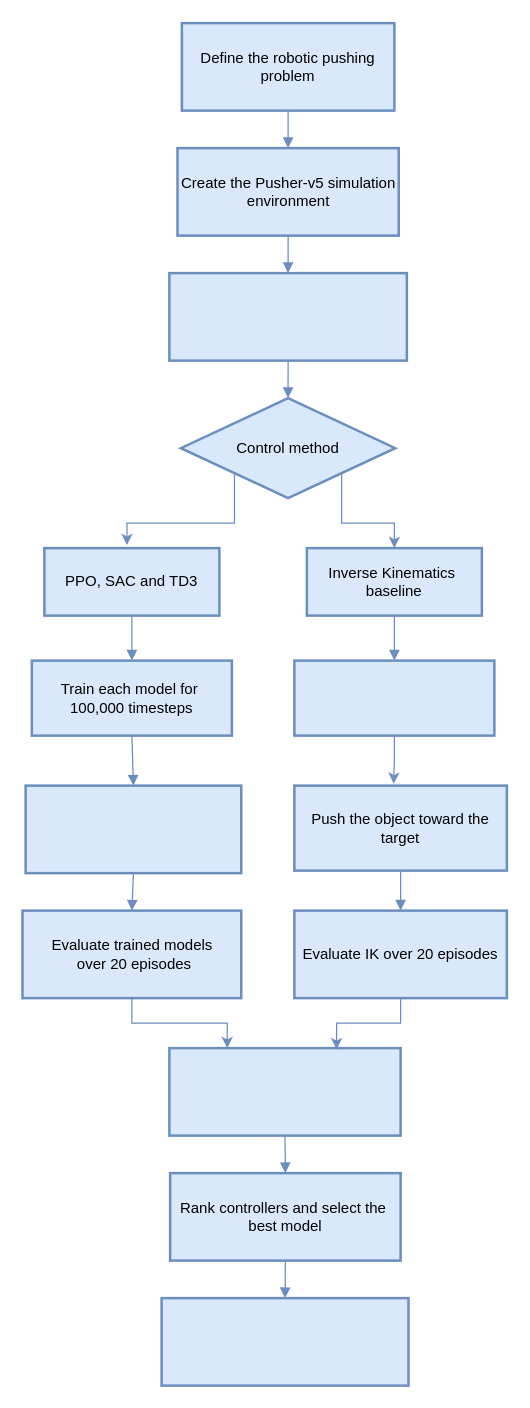
The diagram is 530 pixels wide and 1408 high, and some of its shapes have lost their labels. The centre of each missing label's shape, as x and y in pixels:
"Compare distance, success rate and control effort" goes at point 284,1091.
"Define observations, continuous actions and success threshold" goes at point 288,316.
"Evaluate every 10,000 timesteps, save checkpoints" goes at point 133,829.
"Move fingertip behind the object" goes at point 393,697.
"Save models, plots, results and final video" goes at point 284,1341.
